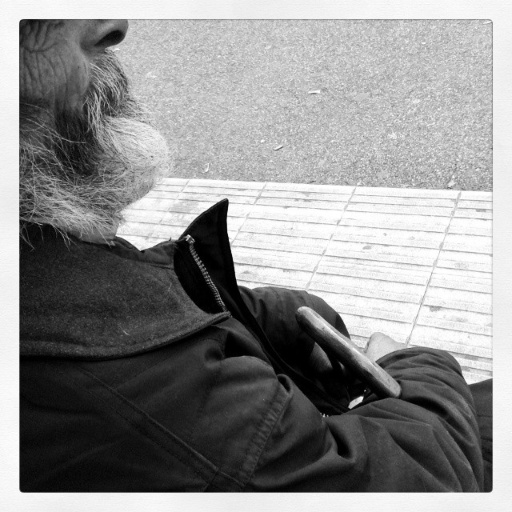hand: (307, 339, 360, 407), (361, 332, 406, 364)
